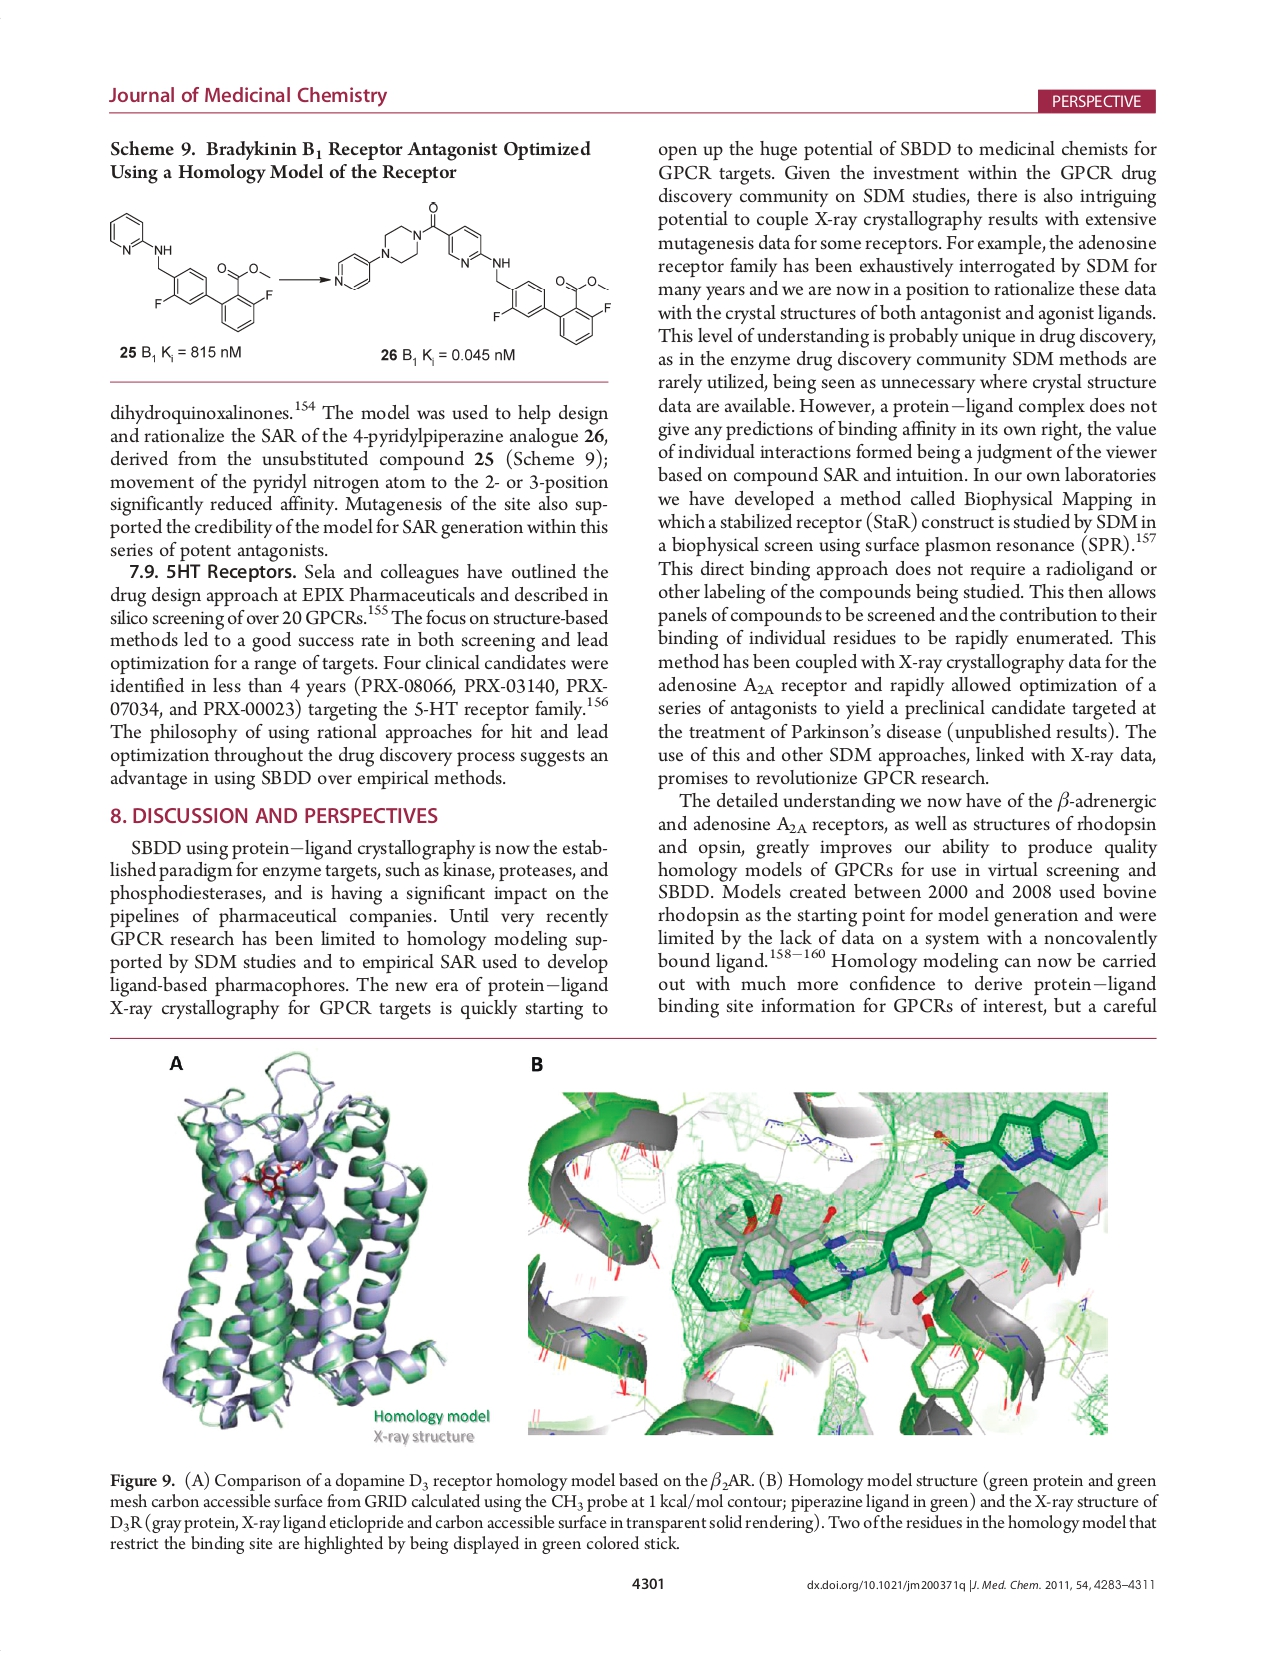exist_molecular: (331, 199, 614, 344), (102, 207, 277, 335)
